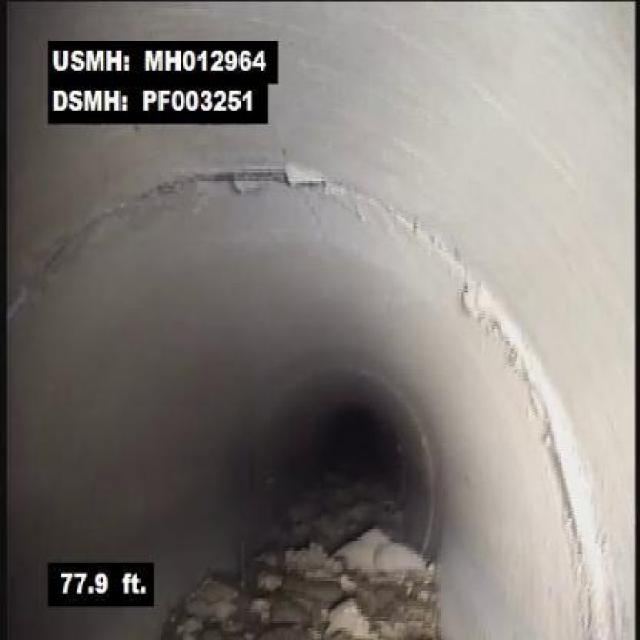Obstacle: (166, 477, 337, 637), (338, 500, 429, 638)
